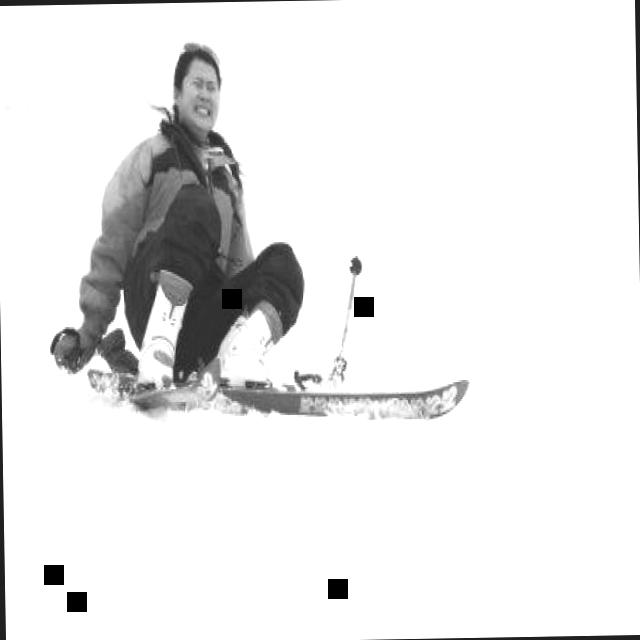Fall-Detected: (37, 19, 333, 417)
